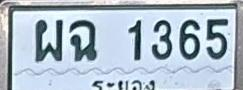1: (128, 19, 142, 61)
3: (151, 19, 172, 60)
5: (206, 17, 228, 60)
6: (179, 19, 200, 60)
A09: (69, 19, 97, 61)
A28: (34, 19, 63, 62)
RYG: (91, 77, 160, 90)
